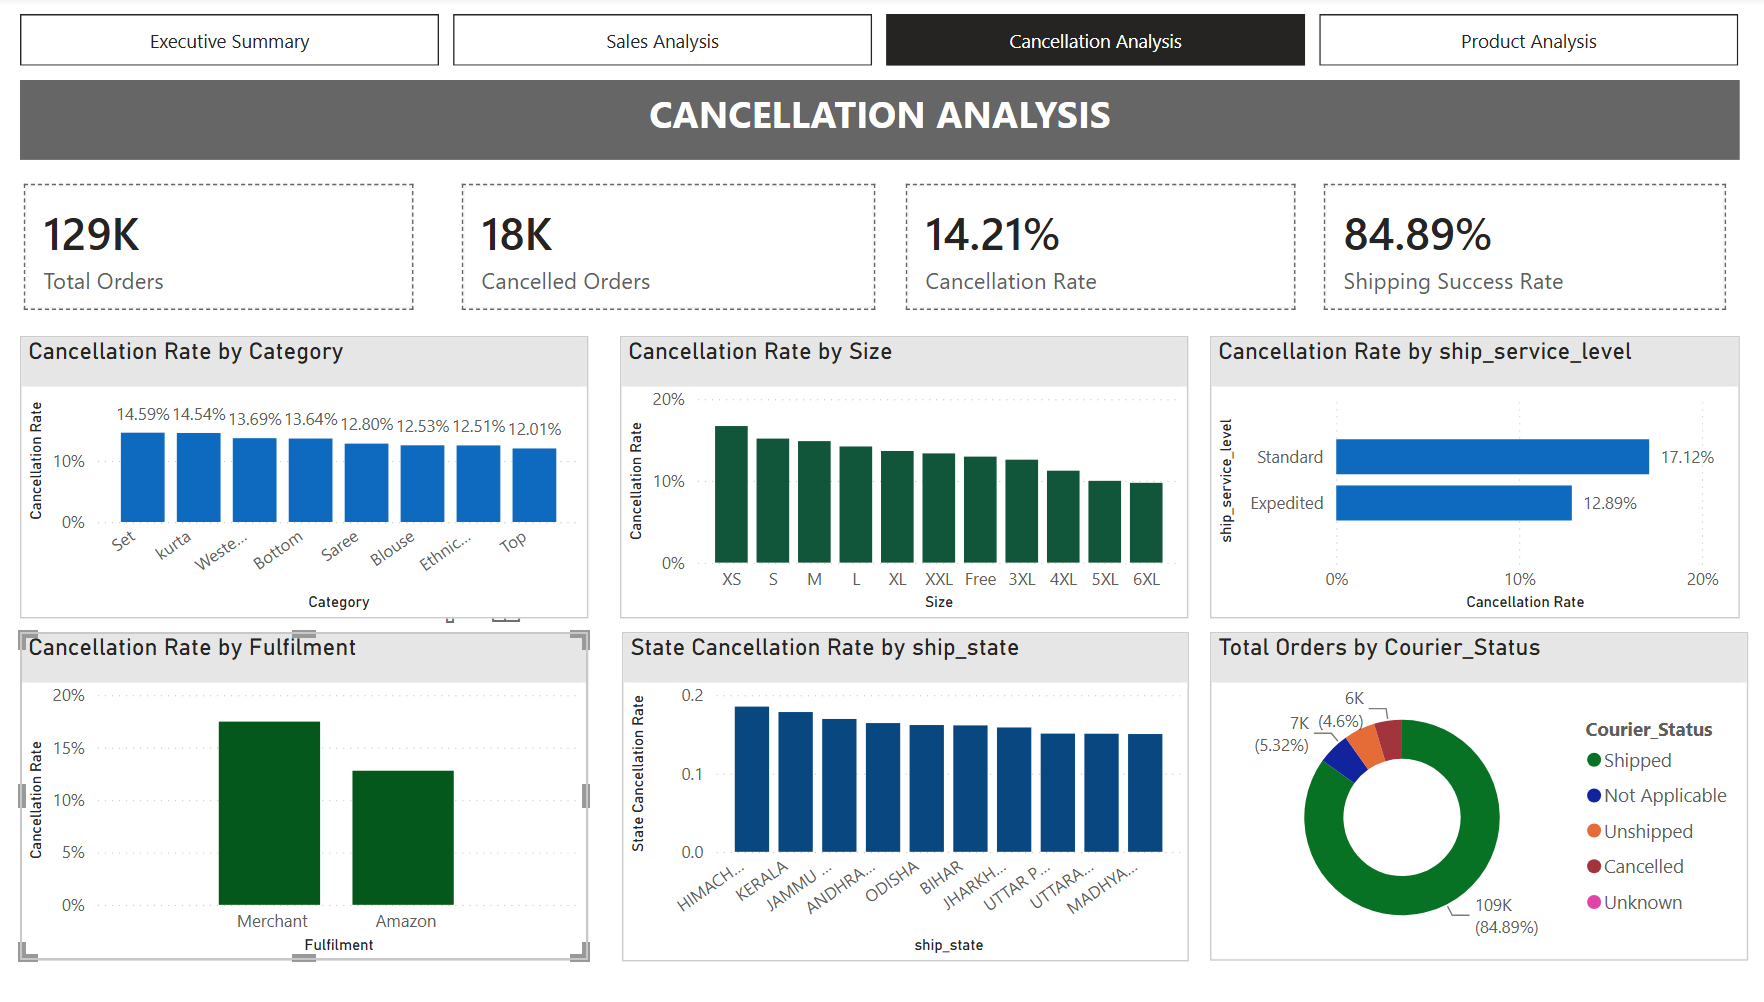

The page's visual inventory and layout, read from the dashboard file:
{"tool":"powerbi","page":{"name":"Cancellation Analysis","canvas":[1280,720],"ordinal":2},"visuals":[{"type":"cardVisual","fields":{"Data":["AMAZONREPORT_BACKUP.Total Orders"]},"box":[13.1,117.6,312.2,124.1],"z":0},{"type":"cardVisual","fields":{"Data":["AMAZONREPORT_BACKUP.Cancelled Orders"]},"box":[325.3,117.6,329.7,124.1],"z":1000},{"type":"cardVisual","fields":{"Data":["AMAZONREPORT_BACKUP.Cancellation Rate"]},"box":[641.4,117.6,312.2,124.1],"z":2000},{"type":"cardVisual","fields":{"Data":["AMAZONREPORT_BACKUP.Shipping Success Rate"]},"box":[940.1,117.6,321.9,124.1],"z":3000},{"type":"columnChart","fields":{"Y":["AMAZONREPORT_BACKUP.Cancellation Rate"],"Category":["AMAZONREPORT_BACKUP.Fulfilment"]},"box":[27.2,453.8,405.3,234.7],"z":4000},{"type":"barChart","fields":{"Y":["AMAZONREPORT_BACKUP.Cancellation Rate"],"Category":["AMAZONREPORT_BACKUP.ship_service_level"]},"box":[876.6,242.4,378.2,201.7],"z":5000},{"type":"columnChart","fields":{"Y":["AMAZONREPORT_BACKUP.Cancellation Rate"],"Category":["AMAZONREPORT_BACKUP.Category"]},"box":[27.2,242.4,405.3,201.7],"z":6000},{"type":"columnChart","fields":{"Category":["AMAZONREPORT_BACKUP.Size"],"Y":["AMAZONREPORT_BACKUP.Cancellation Rate"]},"box":[455.8,242.4,405.3,201.7],"z":7000},{"type":"donutChart","fields":{"Category":["AMAZONREPORT_BACKUP.Courier_Status"],"Y":["AMAZONREPORT_BACKUP.Total Orders"]},"box":[876.6,453.8,384,234.7],"z":8000},{"type":"columnChart","fields":{"Category":["AMAZONREPORT_BACKUP.ship_state"],"Y":["AMAZONREPORT_BACKUP.State Cancellation Rate"]},"box":[456.2,453.9,404.5,234.8],"z":9000},{"type":"textbox","box":[27.1,59.9,1227.2,57.1],"z":10000},{"type":"pageNavigator","box":[27.1,12.8,1227.2,37.1],"z":10001}]}

Visuals, with their boxes in screenshot pixels (x1, y1, x2, y2), scaled from the page's 1280x720 canvas onto the 1764x1002 screenshot:
cardVisual - AMAZONREPORT_BACKUP.Total Orders: [x1=18, y1=164, x2=448, y2=336]
cardVisual - AMAZONREPORT_BACKUP.Cancelled Orders: [x1=448, y1=164, x2=903, y2=336]
cardVisual - AMAZONREPORT_BACKUP.Cancellation Rate: [x1=884, y1=164, x2=1314, y2=336]
cardVisual - AMAZONREPORT_BACKUP.Shipping Success Rate: [x1=1296, y1=164, x2=1739, y2=336]
columnChart - AMAZONREPORT_BACKUP.Cancellation Rate x AMAZONREPORT_BACKUP.Fulfilment: [x1=37, y1=632, x2=596, y2=958]
barChart - AMAZONREPORT_BACKUP.Cancellation Rate x AMAZONREPORT_BACKUP.ship_service_level: [x1=1208, y1=337, x2=1729, y2=618]
columnChart - AMAZONREPORT_BACKUP.Cancellation Rate x AMAZONREPORT_BACKUP.Category: [x1=37, y1=337, x2=596, y2=618]
columnChart - AMAZONREPORT_BACKUP.Size x AMAZONREPORT_BACKUP.Cancellation Rate: [x1=628, y1=337, x2=1187, y2=618]
donutChart - AMAZONREPORT_BACKUP.Courier_Status x AMAZONREPORT_BACKUP.Total Orders: [x1=1208, y1=632, x2=1737, y2=958]
columnChart - AMAZONREPORT_BACKUP.ship_state x AMAZONREPORT_BACKUP.State Cancellation Rate: [x1=629, y1=632, x2=1186, y2=958]
textbox: [x1=37, y1=83, x2=1729, y2=163]
pageNavigator: [x1=37, y1=18, x2=1729, y2=69]
